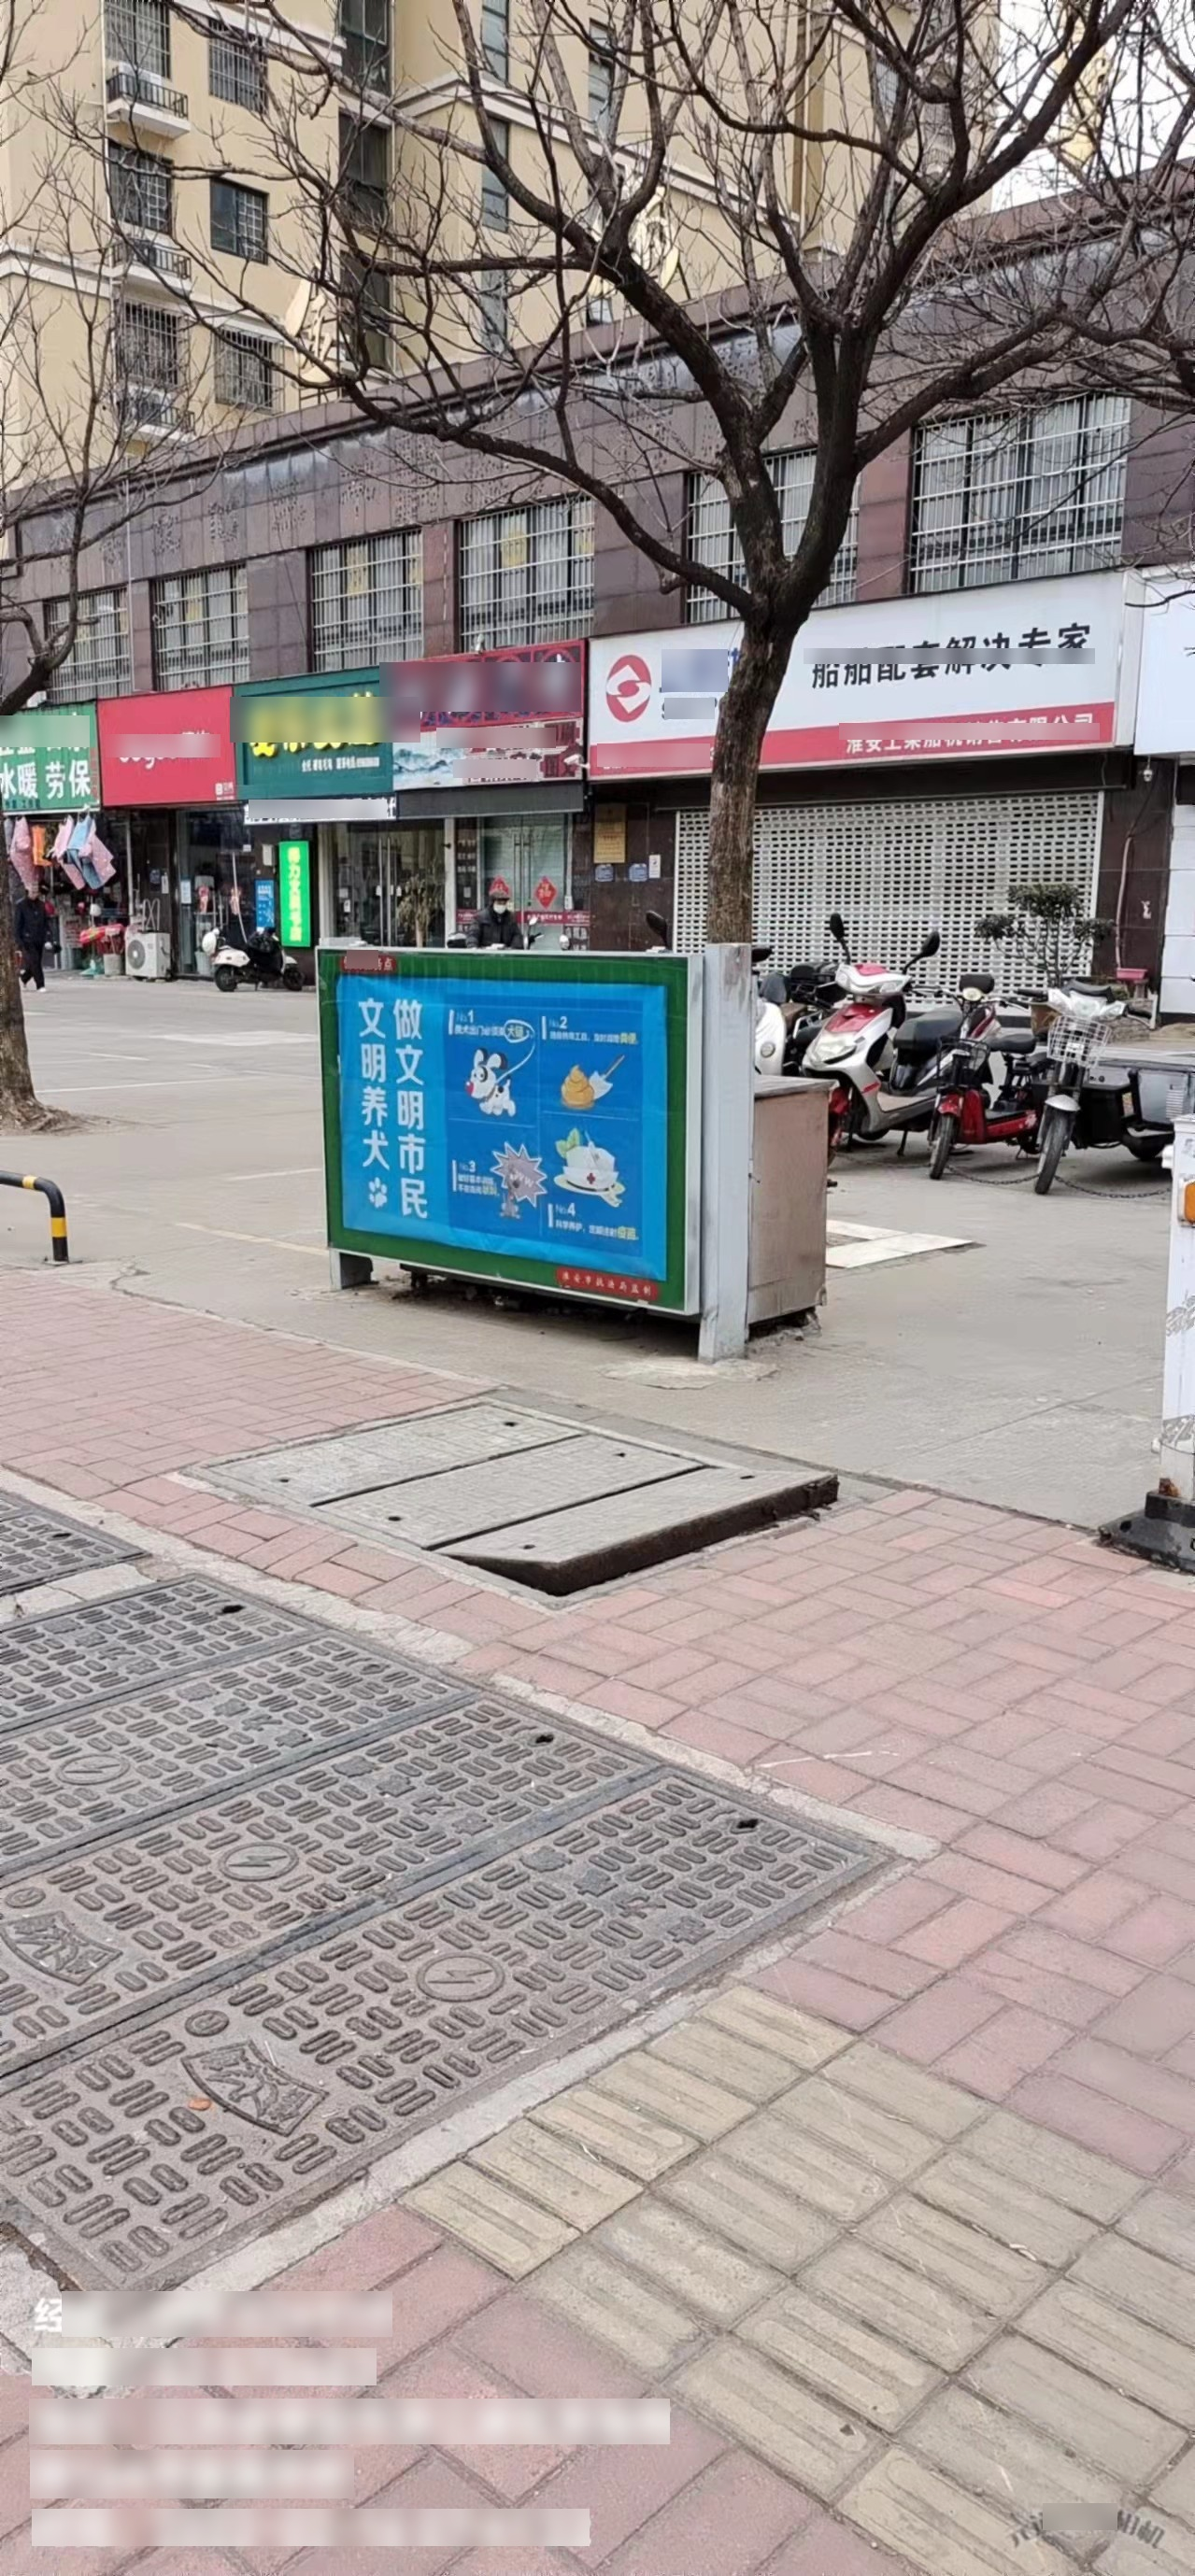uncovered: (182, 1393, 853, 1603)
